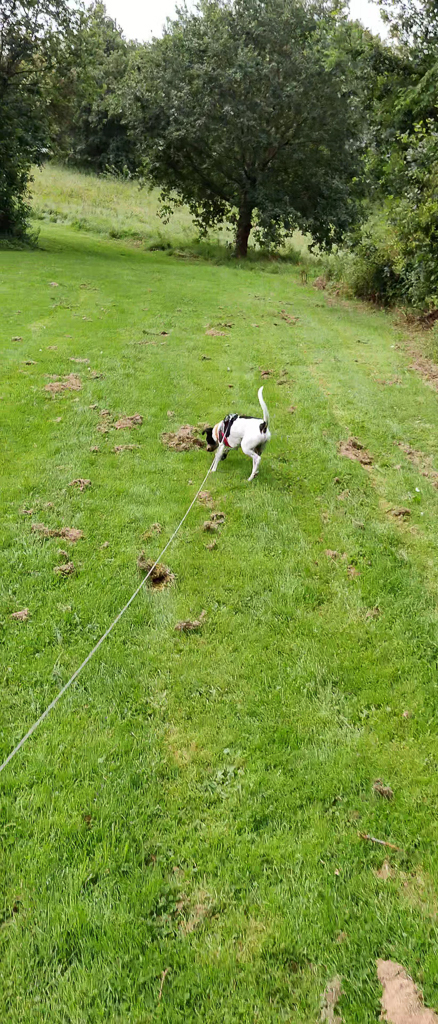Dog: (193, 381, 277, 493)
